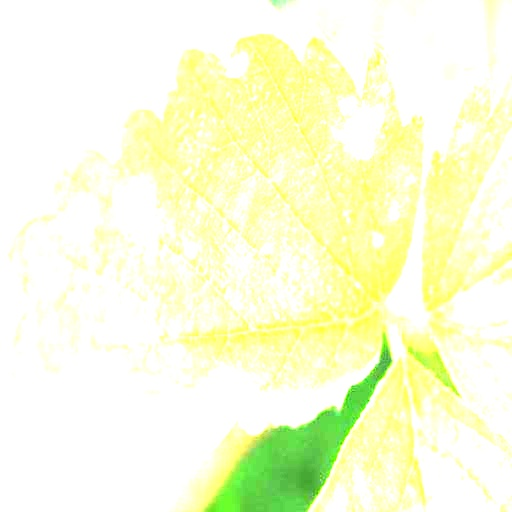Powdery Mildew Leaf: (0, 26, 427, 472)
